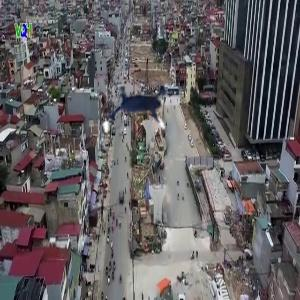drone: (94, 61, 191, 158)
